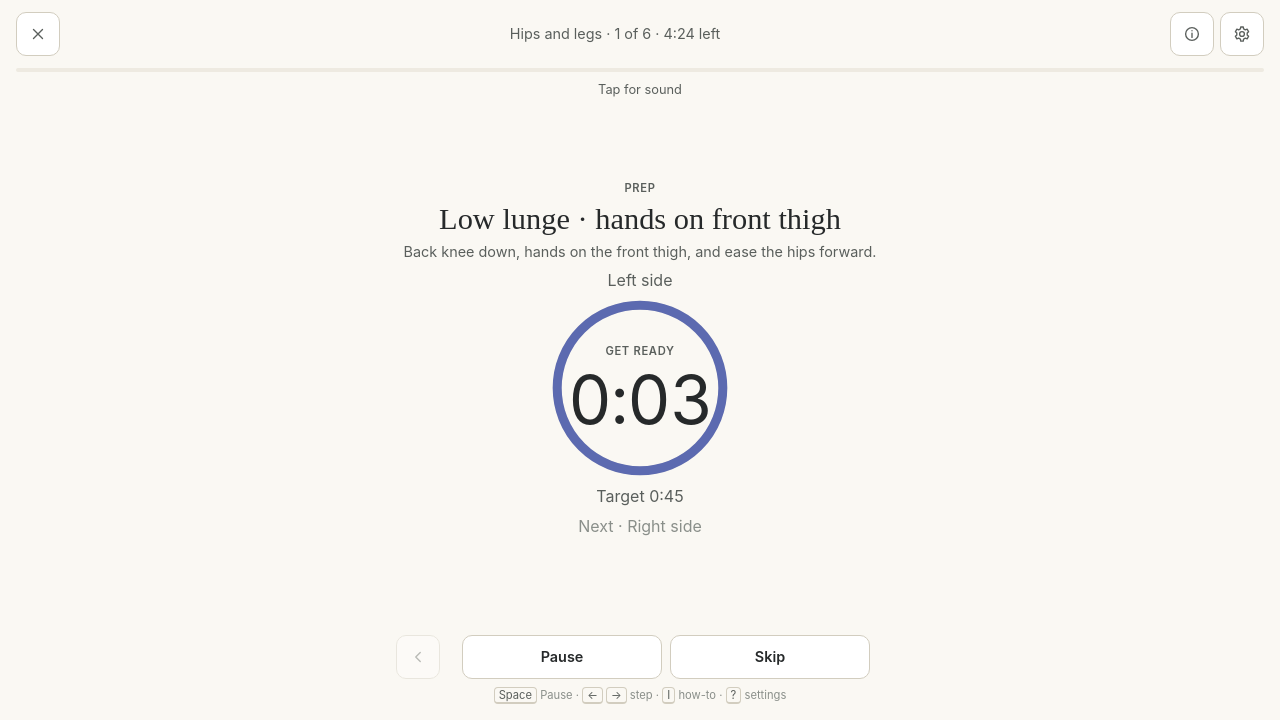
Scenario: a document workout's items, played › a timed move to max with no target counts up from its start, and Done's card holds the seconds counted
Press ArrowRight
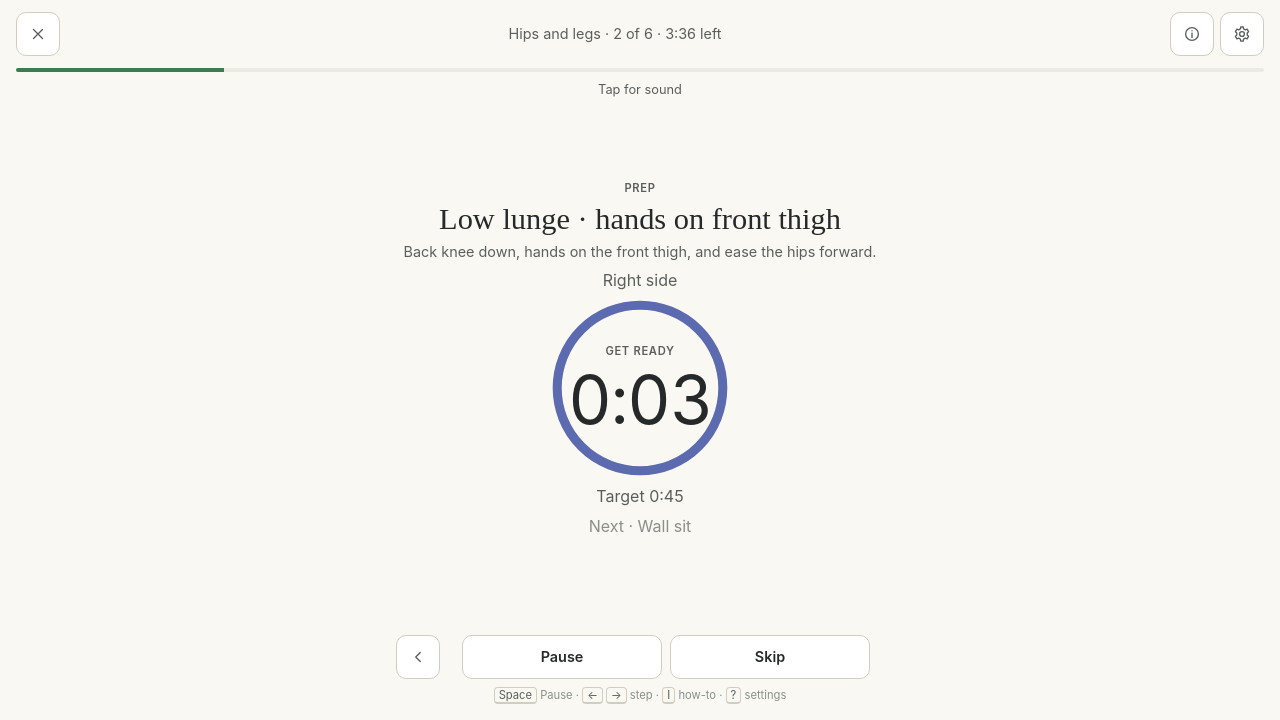
Press ArrowRight
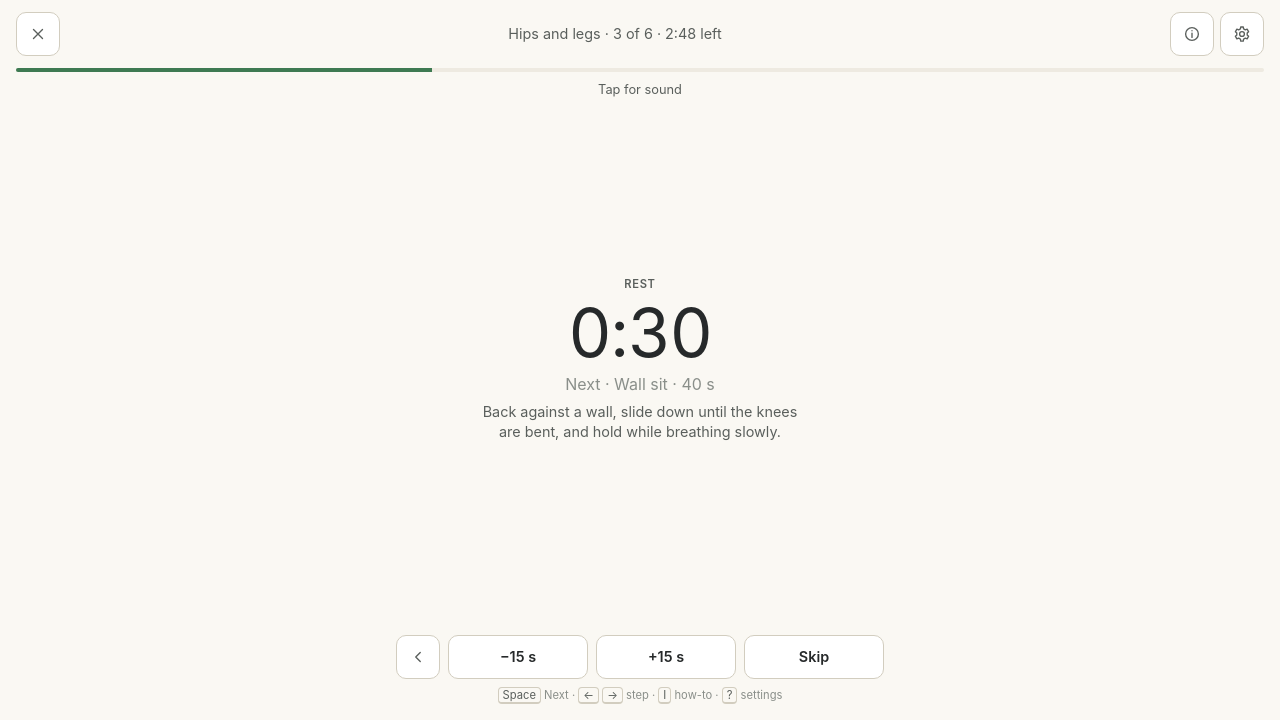
Press ArrowRight
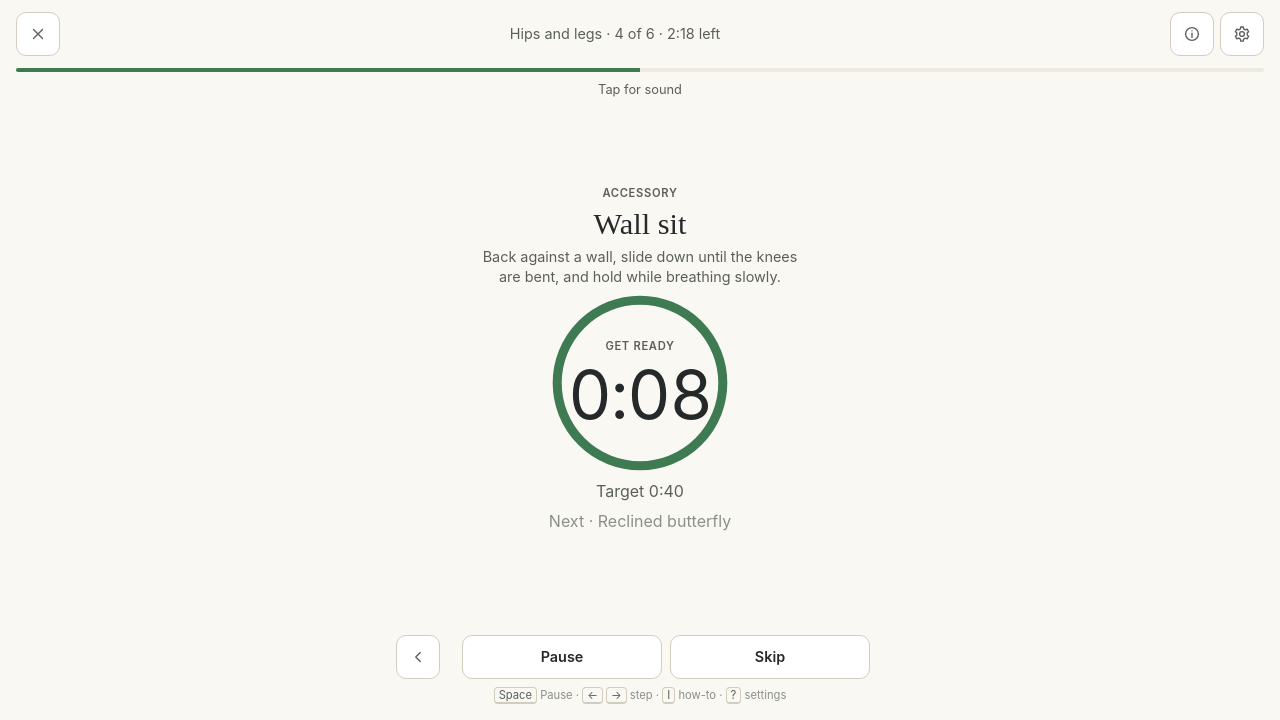
Press ArrowRight
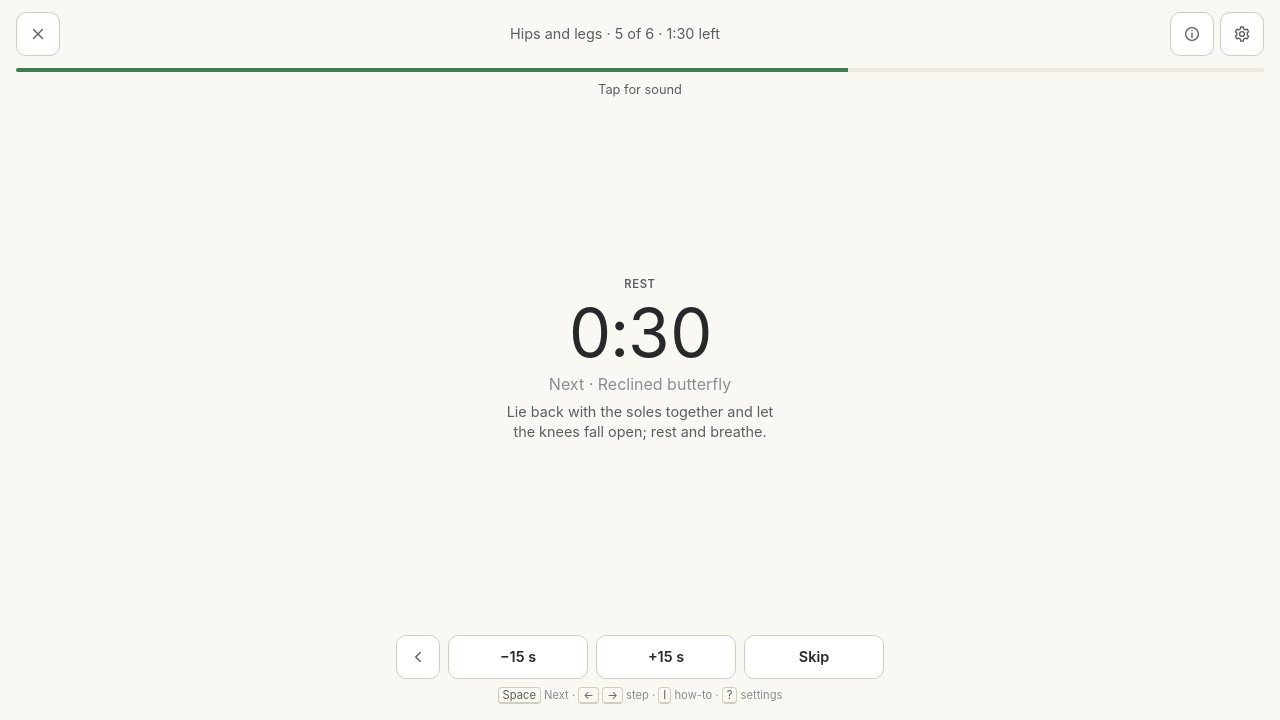
Press ArrowRight
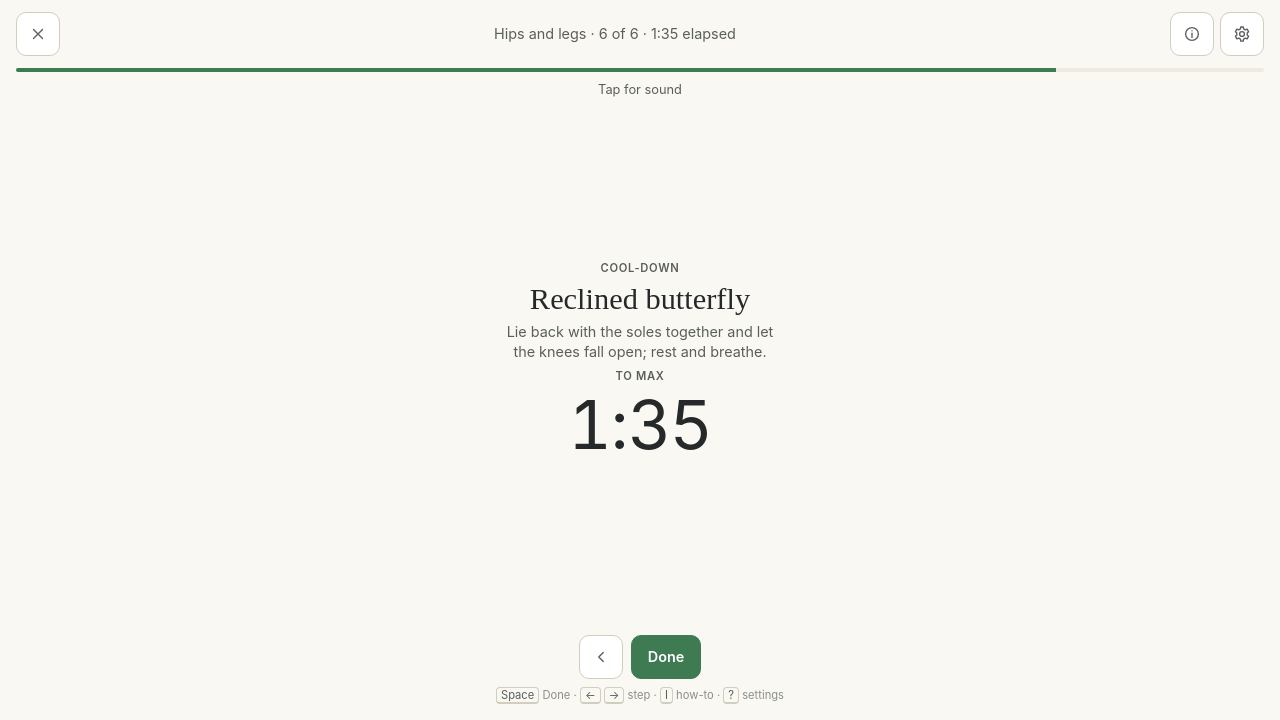
Result: the text "To max" is shown at [616,368,664,385]
Result: the text "1:35" is shown at [651,25,736,42]
Result: the text "elapsed" is shown at [651,25,736,42]
Click the button "Done" at (666, 657), box [631,635,701,679]
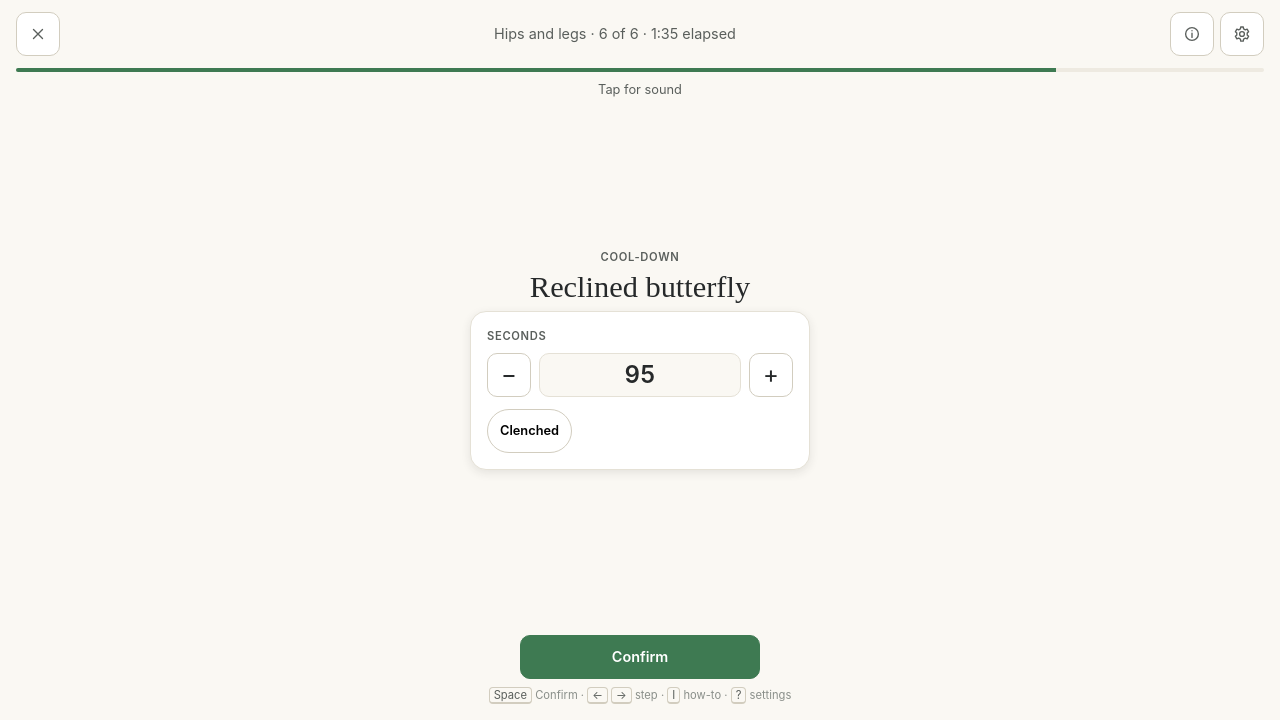
Result: the field labelled "Seconds" holds "95" at [539,353,741,397]
